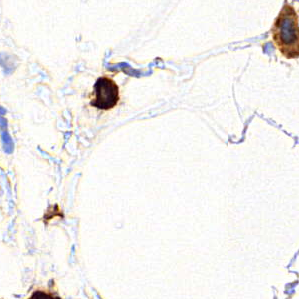Lymphocyte: (91, 78, 120, 109)
